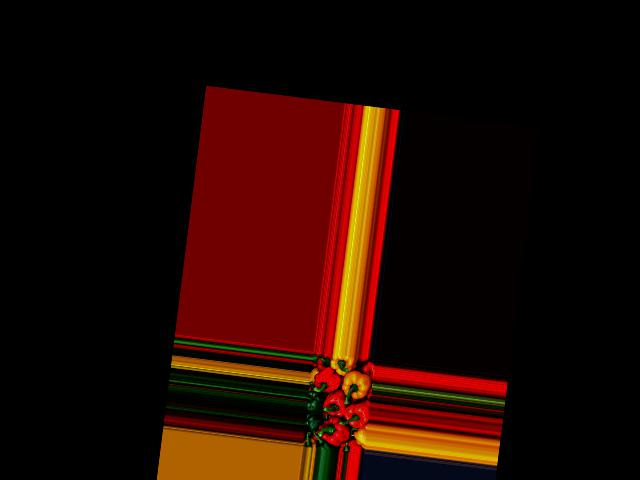bell_pepper: (353, 427, 368, 445)
